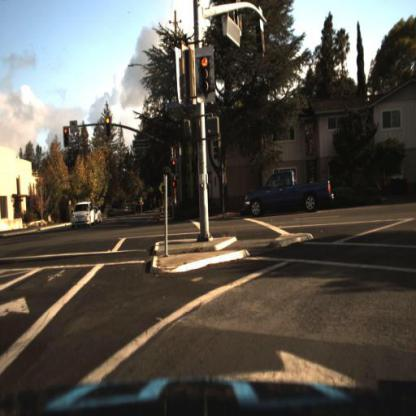car: (243, 166, 338, 221), (71, 199, 96, 228), (96, 205, 106, 234), (92, 207, 104, 227)
trafficLight-Red: (198, 51, 213, 99), (104, 114, 112, 138), (170, 157, 178, 179), (171, 158, 178, 176)
